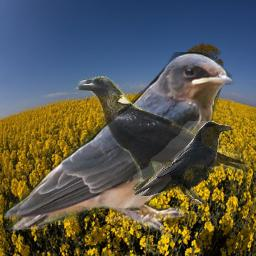Crow: (74, 76, 249, 194), (133, 121, 233, 204)
Swallow: (2, 52, 234, 240)
